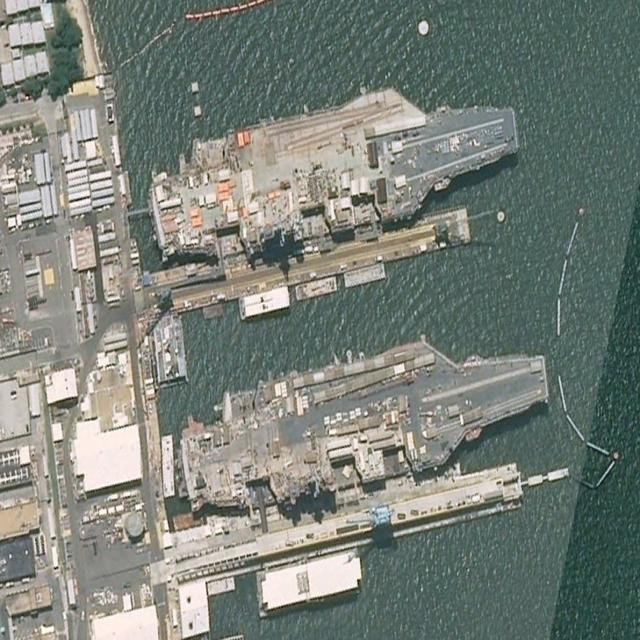Aircraft Carrier: (143, 58, 526, 282), (174, 310, 555, 534)
